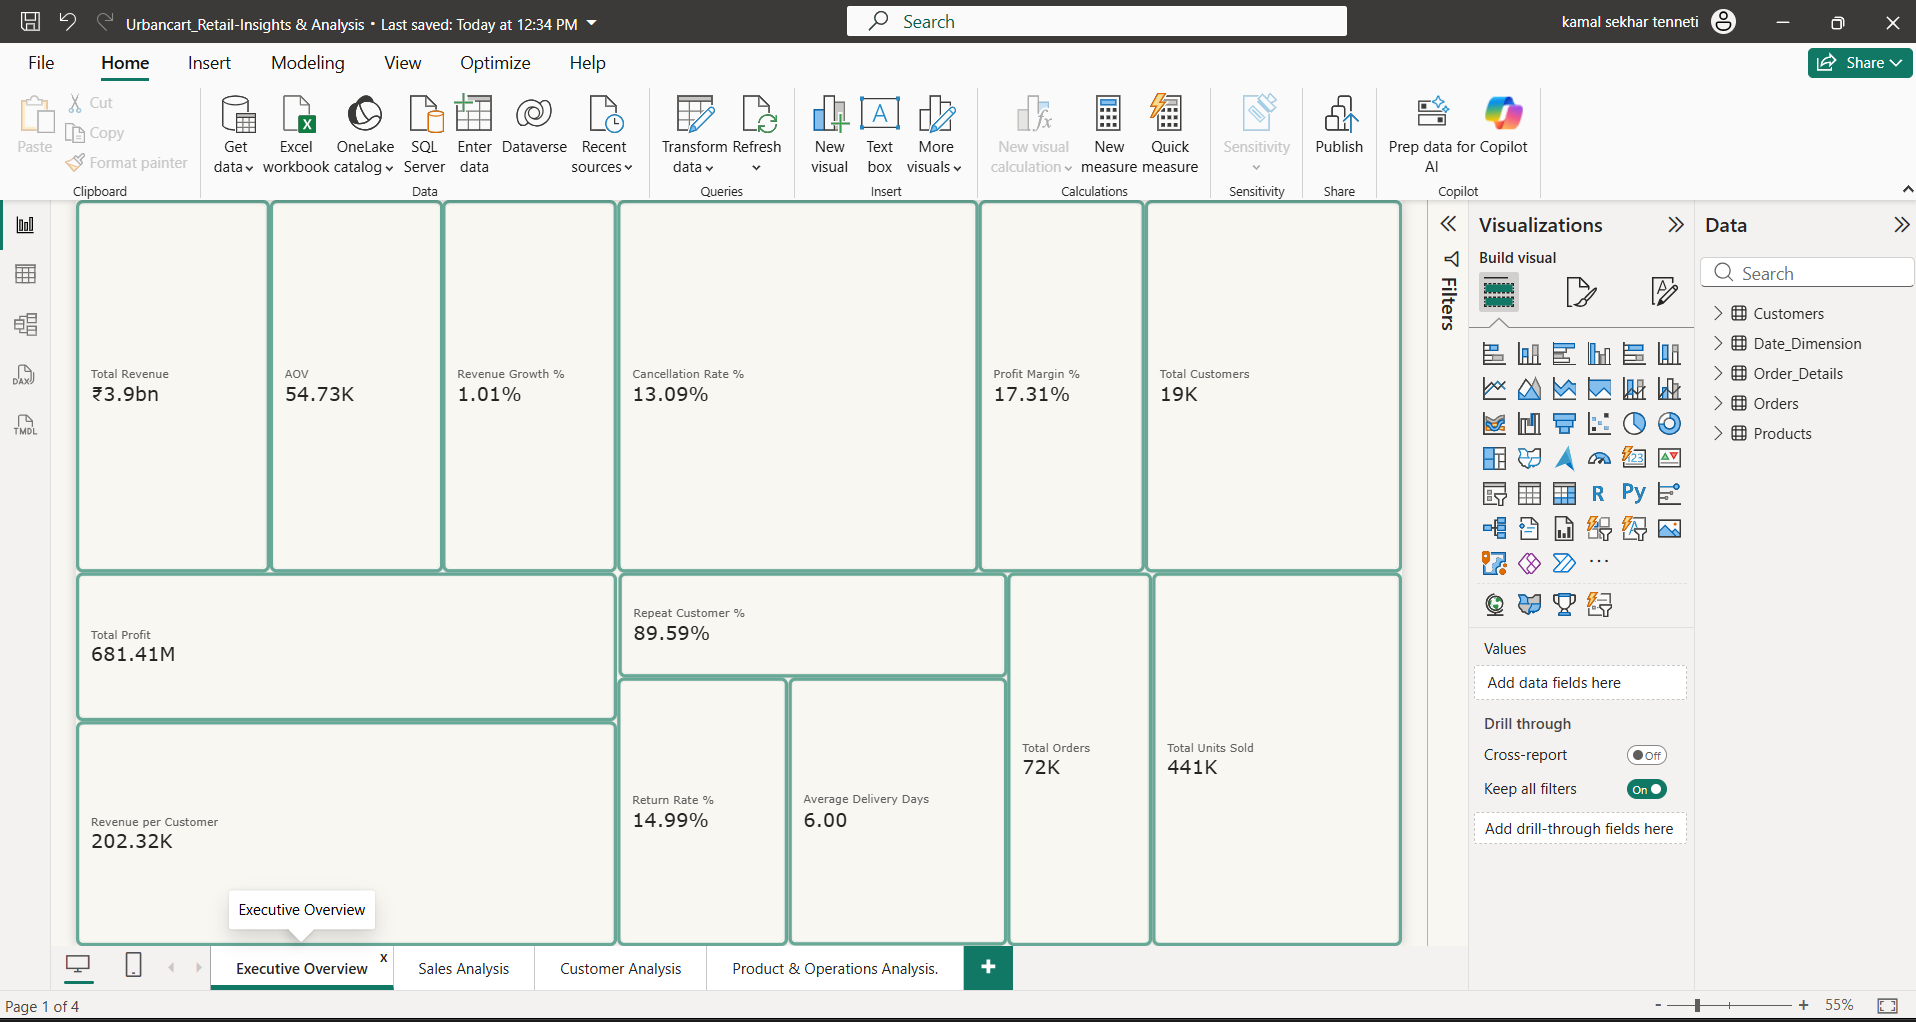

The page's visual inventory and layout, read from the dashboard file:
{"tool":"powerbi","page":{"name":"Executive Overview","canvas":[1920,1080],"ordinal":0},"visuals":[{"type":"cardVisual","fields":{"Data":["Order_Details.Total Revenue"]},"box":[0,0,280.5,539.3],"z":0},{"type":"cardVisual","fields":{"Data":["Order_Details.Total Profit"]},"box":[0,539.3,783.6,215.3],"z":1000},{"type":"cardVisual","fields":{"Data":["Order_Details.Profit Margin %"]},"box":[1306.6,0,240.7,539.3],"z":2000},{"type":"cardVisual","fields":{"Data":["Order_Details.Total Orders"]},"box":[1348.2,539.3,209.9,541.1],"z":3000},{"type":"cardVisual","fields":{"Data":["Order_Details.Total Customers"]},"box":[1547.3,0,372.8,539.3],"z":4000},{"type":"cardVisual","fields":{"Data":["Order_Details.Total Units Sold"]},"box":[1558.1,539.3,361.9,541.1],"z":5000},{"type":"cardVisual","fields":{"Data":["Order_Details.AOV"]},"box":[279.9,0,251.1,539.3],"z":6000},{"type":"cardVisual","fields":{"Data":["Order_Details.Revenue per Customer"]},"box":[0,754.6,783.6,325.7],"z":7000},{"type":"cardVisual","fields":{"Data":["Order_Details.Repeat Customer %"]},"box":[785.4,539.3,562.8,152],"z":8000},{"type":"cardVisual","fields":{"Data":["Order_Details.Cancellation Rate %"]},"box":[783.6,0,523,539.3],"z":9000},{"type":"cardVisual","fields":{"Data":["Order_Details.Return Rate %"]},"box":[784.2,691.6,247,389],"z":10000},{"type":"cardVisual","fields":{"Data":["Order_Details.Average Delivery Days"]},"box":[1031,692,317,388],"z":11000},{"type":"cardVisual","fields":{"Data":["Order_Details.Revenue Growth %"]},"box":[531,0,253,539],"z":12000}]}

Visuals, with their boxes on the page's 1920x1080 design canvas (x1, y1, x2, y2). These are canvas units, not pixel positions in the 1916x1022 screenshot, which may show the page scaled, cropped or inside an application window:
cardVisual - Order_Details.Total Revenue: 0,0,280,539
cardVisual - Order_Details.Total Profit: 0,539,784,755
cardVisual - Order_Details.Profit Margin %: 1307,0,1547,539
cardVisual - Order_Details.Total Orders: 1348,539,1558,1080
cardVisual - Order_Details.Total Customers: 1547,0,1920,539
cardVisual - Order_Details.Total Units Sold: 1558,539,1920,1080
cardVisual - Order_Details.AOV: 280,0,531,539
cardVisual - Order_Details.Revenue per Customer: 0,755,784,1080
cardVisual - Order_Details.Repeat Customer %: 785,539,1348,691
cardVisual - Order_Details.Cancellation Rate %: 784,0,1307,539
cardVisual - Order_Details.Return Rate %: 784,692,1031,1081
cardVisual - Order_Details.Average Delivery Days: 1031,692,1348,1080
cardVisual - Order_Details.Revenue Growth %: 531,0,784,539
